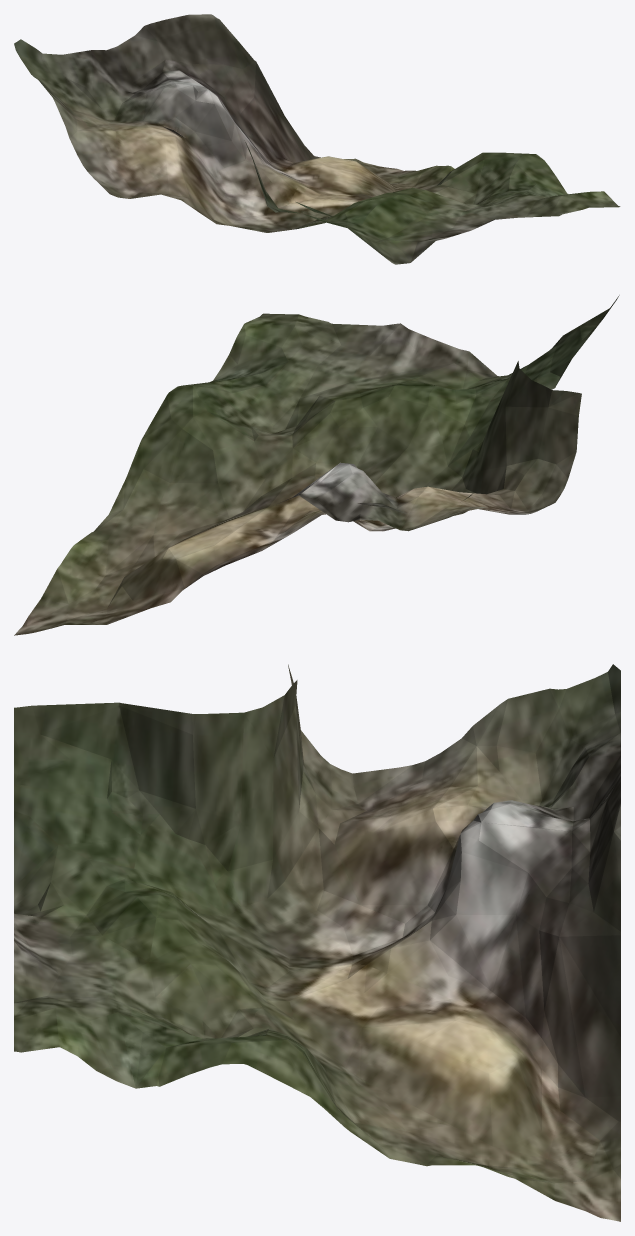
3 views of the same model, one above another, from view 1: azimuth 30°, elevation 25°; view 2: azimuth 150°, elevation 25°; view 3: azimuth 270°, elevation 25° (orthographic). The views are drawn at different scales.
Bounding box in the file's own units: 2.95 × 1.62 × 2.95.
3 materials, 3 textured.
